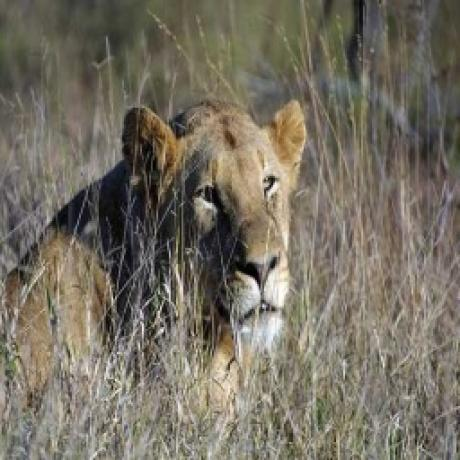Lion: (0, 94, 309, 390)
